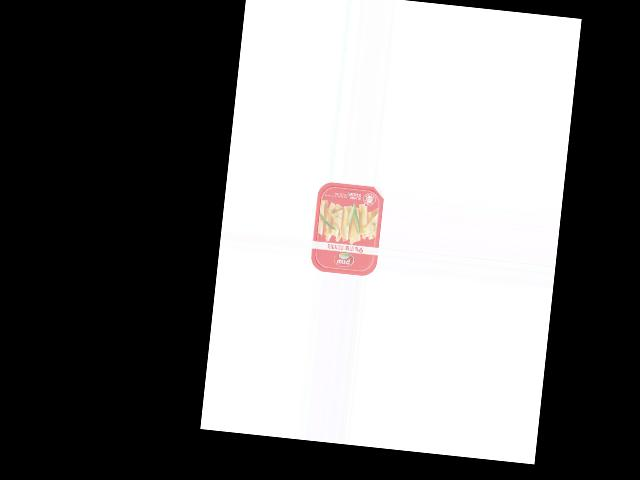cheese: (308, 180, 384, 277)
